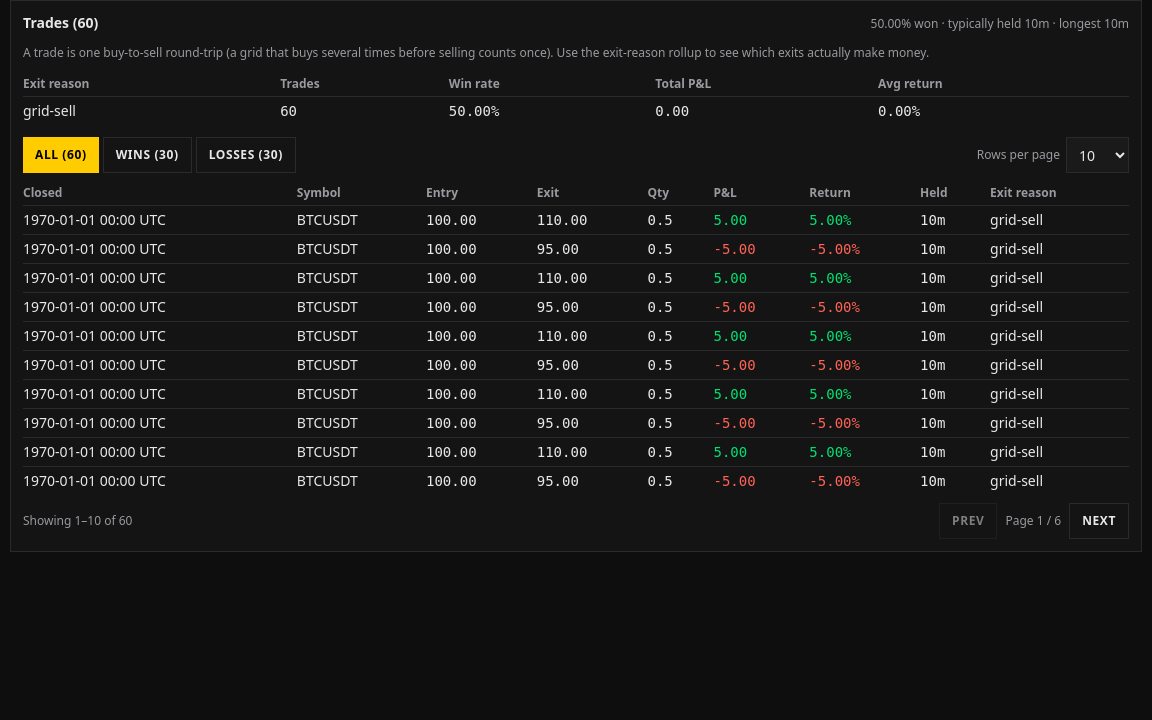
BacktestRoundTrips pagination + filter › changing rows-per-page repaginates and resets to page 1
Click the button with test id "bt-trades-next" at (1099, 521), box [1069, 503, 1129, 539]
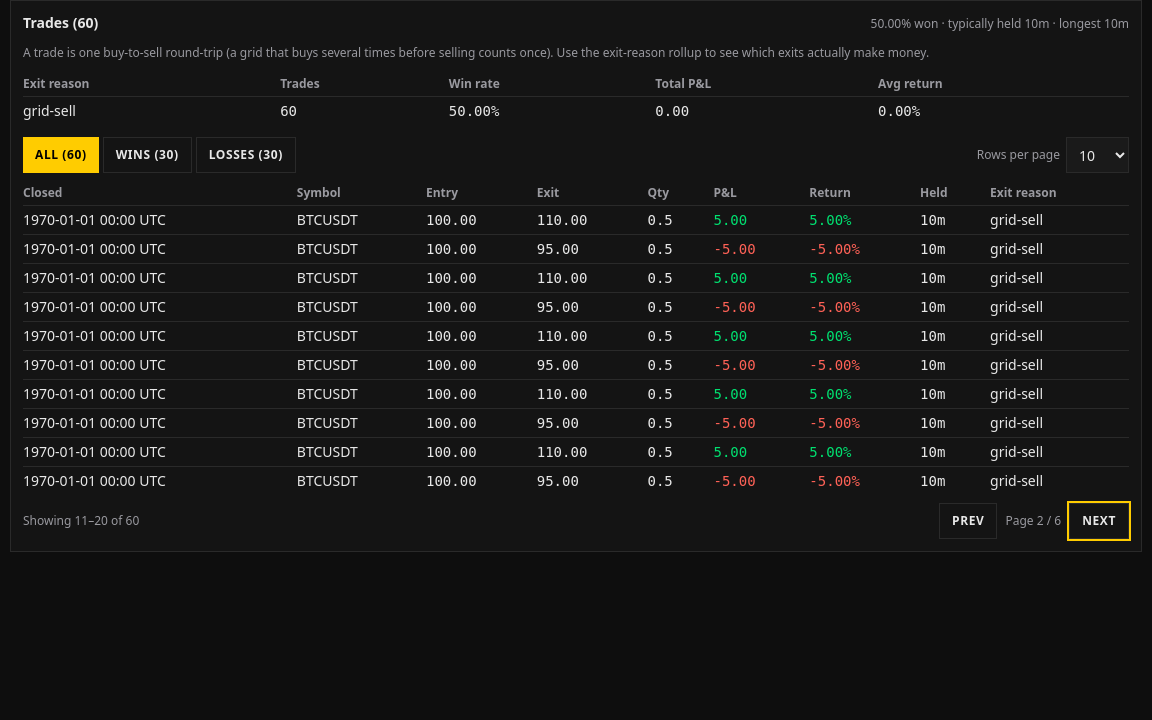
Select "25" in the dropdown with test id "bt-trades-page-size" at (1098, 155), box [1066, 137, 1129, 173]
(page scrolled)
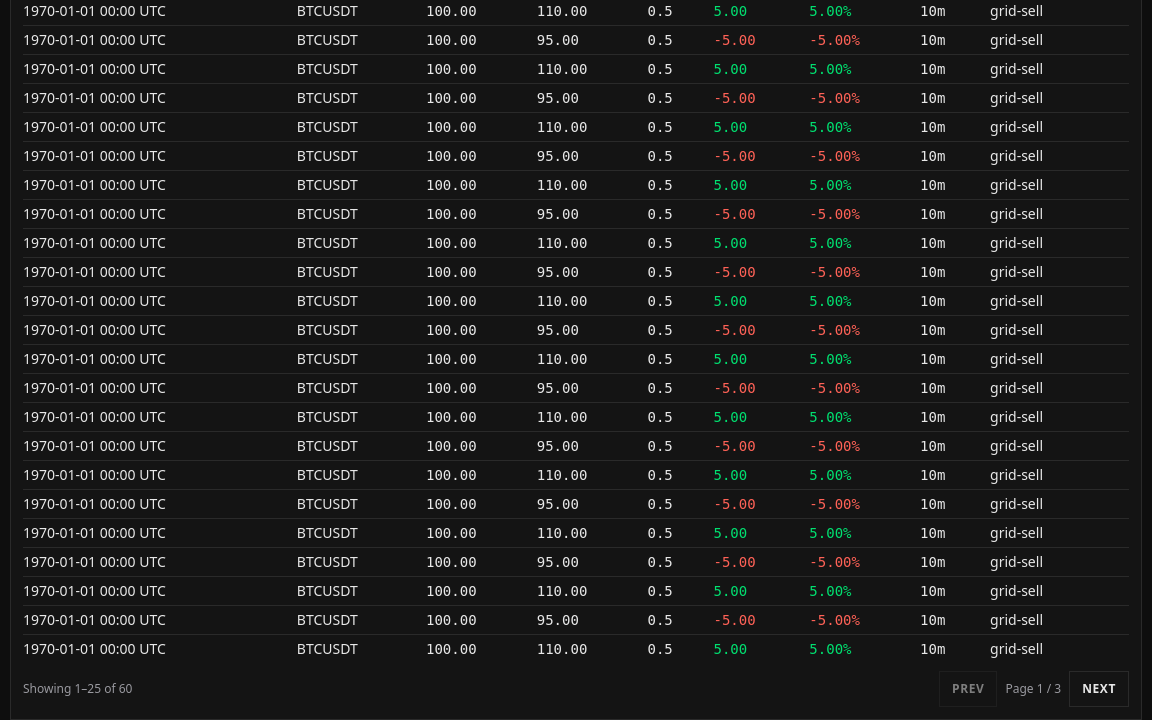
Result: the text with test id "bt-trades-range" reads "Showing 1–25 of 60" at [23, 680, 132, 697]
